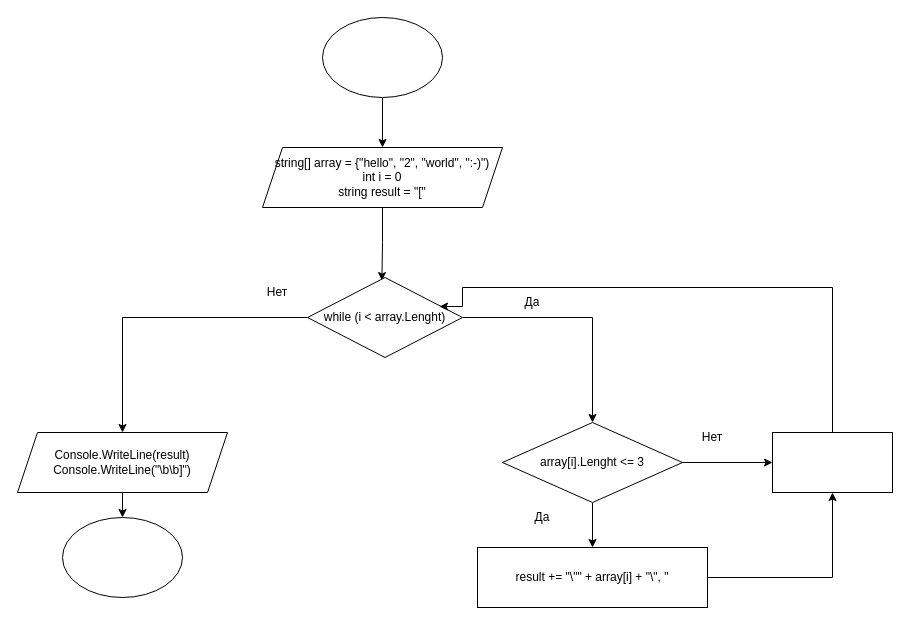
The diagram is 910 pixels wide and 625 high, and some of its shapes have lost their labels. Here are the shapes that lost their labels. From the top down, the centre of each, then its label:
point 382,57: НАЧАЛО
point 832,462: i+=1;
point 122,557: КОНЕЦ
